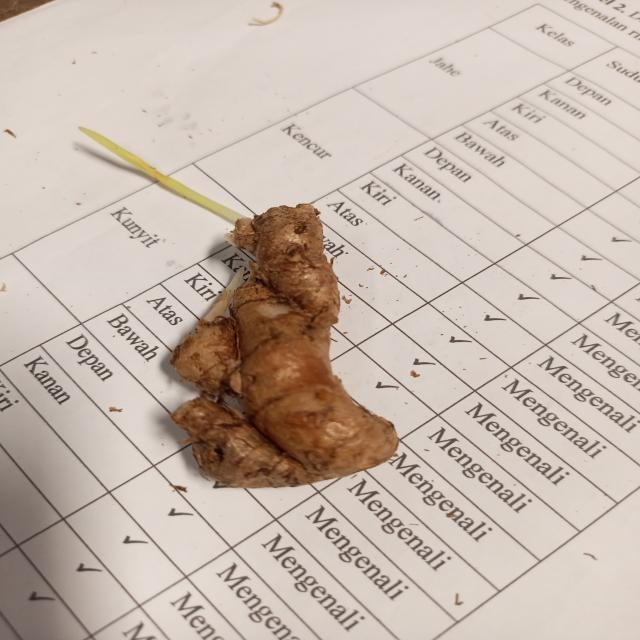ginger: (178, 210, 400, 472)
